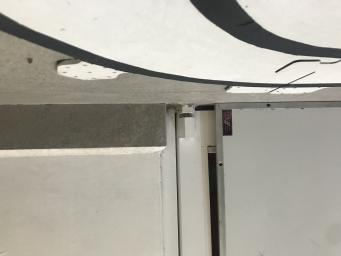street: (0, 0, 341, 93), (0, 0, 341, 93), (0, 0, 341, 93), (0, 0, 341, 93), (0, 0, 341, 93)
